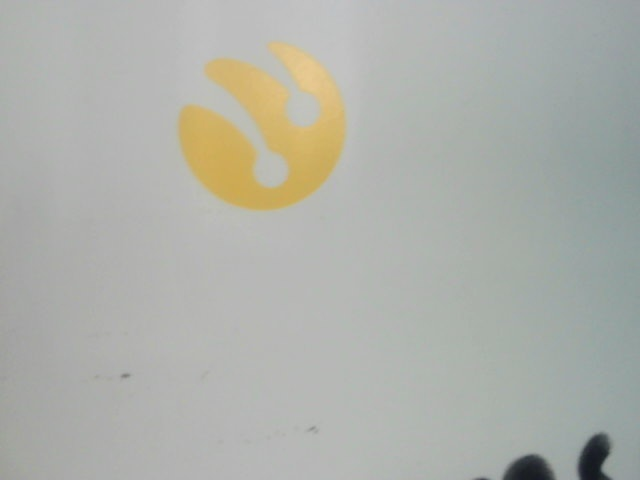AV_H3600Yellow: (158, 36, 400, 219)
